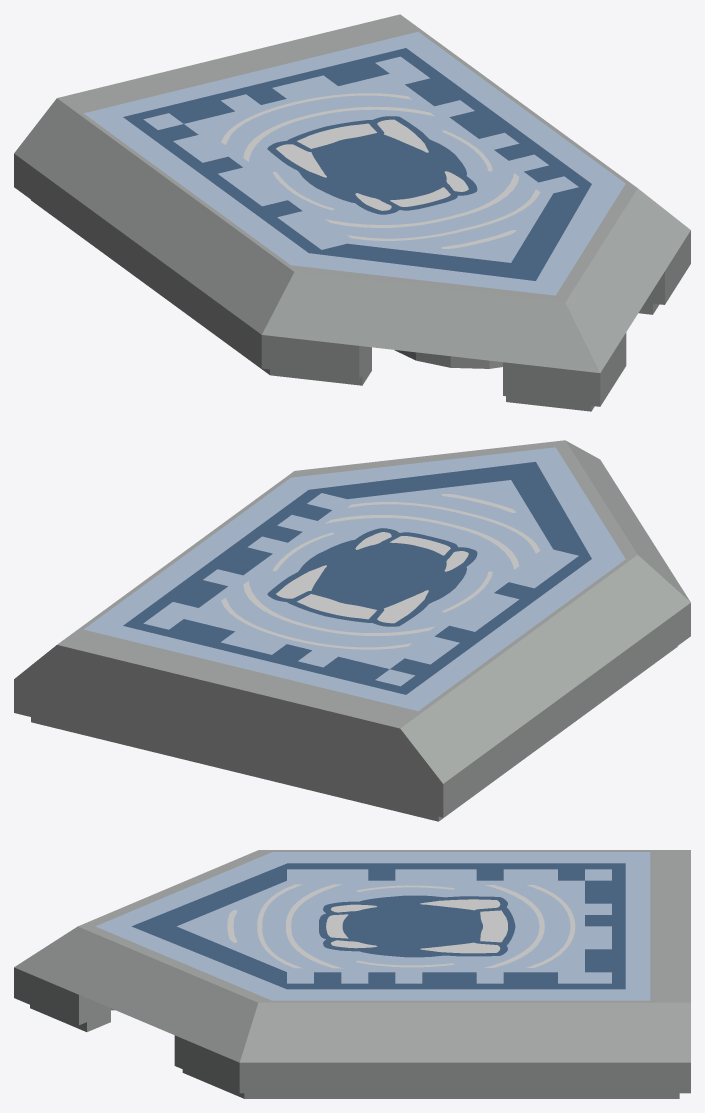
3 views of the same model, one above another, from view 1: azimuth 30°, elevation 25°; view 2: azimuth 150°, elevation 25°; view 3: azimuth 270°, elevation 25° (orthographic). The views are drawn at different scales.
Visible parts, largest first — view 1: world; view 2: world; view 3: world.
Boxes of the visible parts, bbox=[...] form: world: bbox=[14, 14, 690, 411]; world: bbox=[14, 440, 690, 821]; world: bbox=[14, 850, 690, 1098].
Size of the model in its own units: 0.016 by 0.0032 by 0.024.
